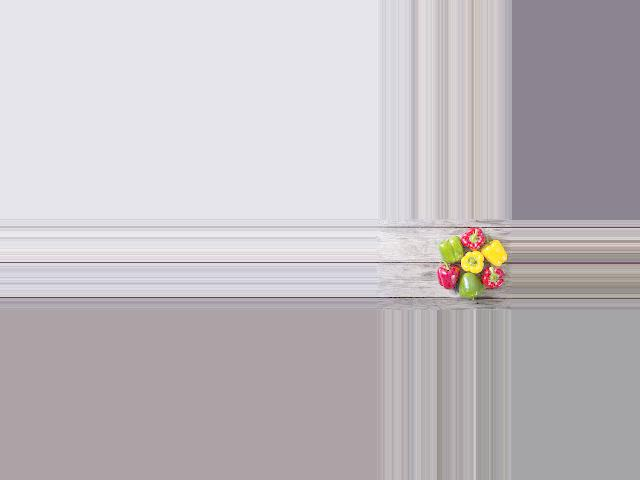bell_pepper: (481, 261, 509, 288)
